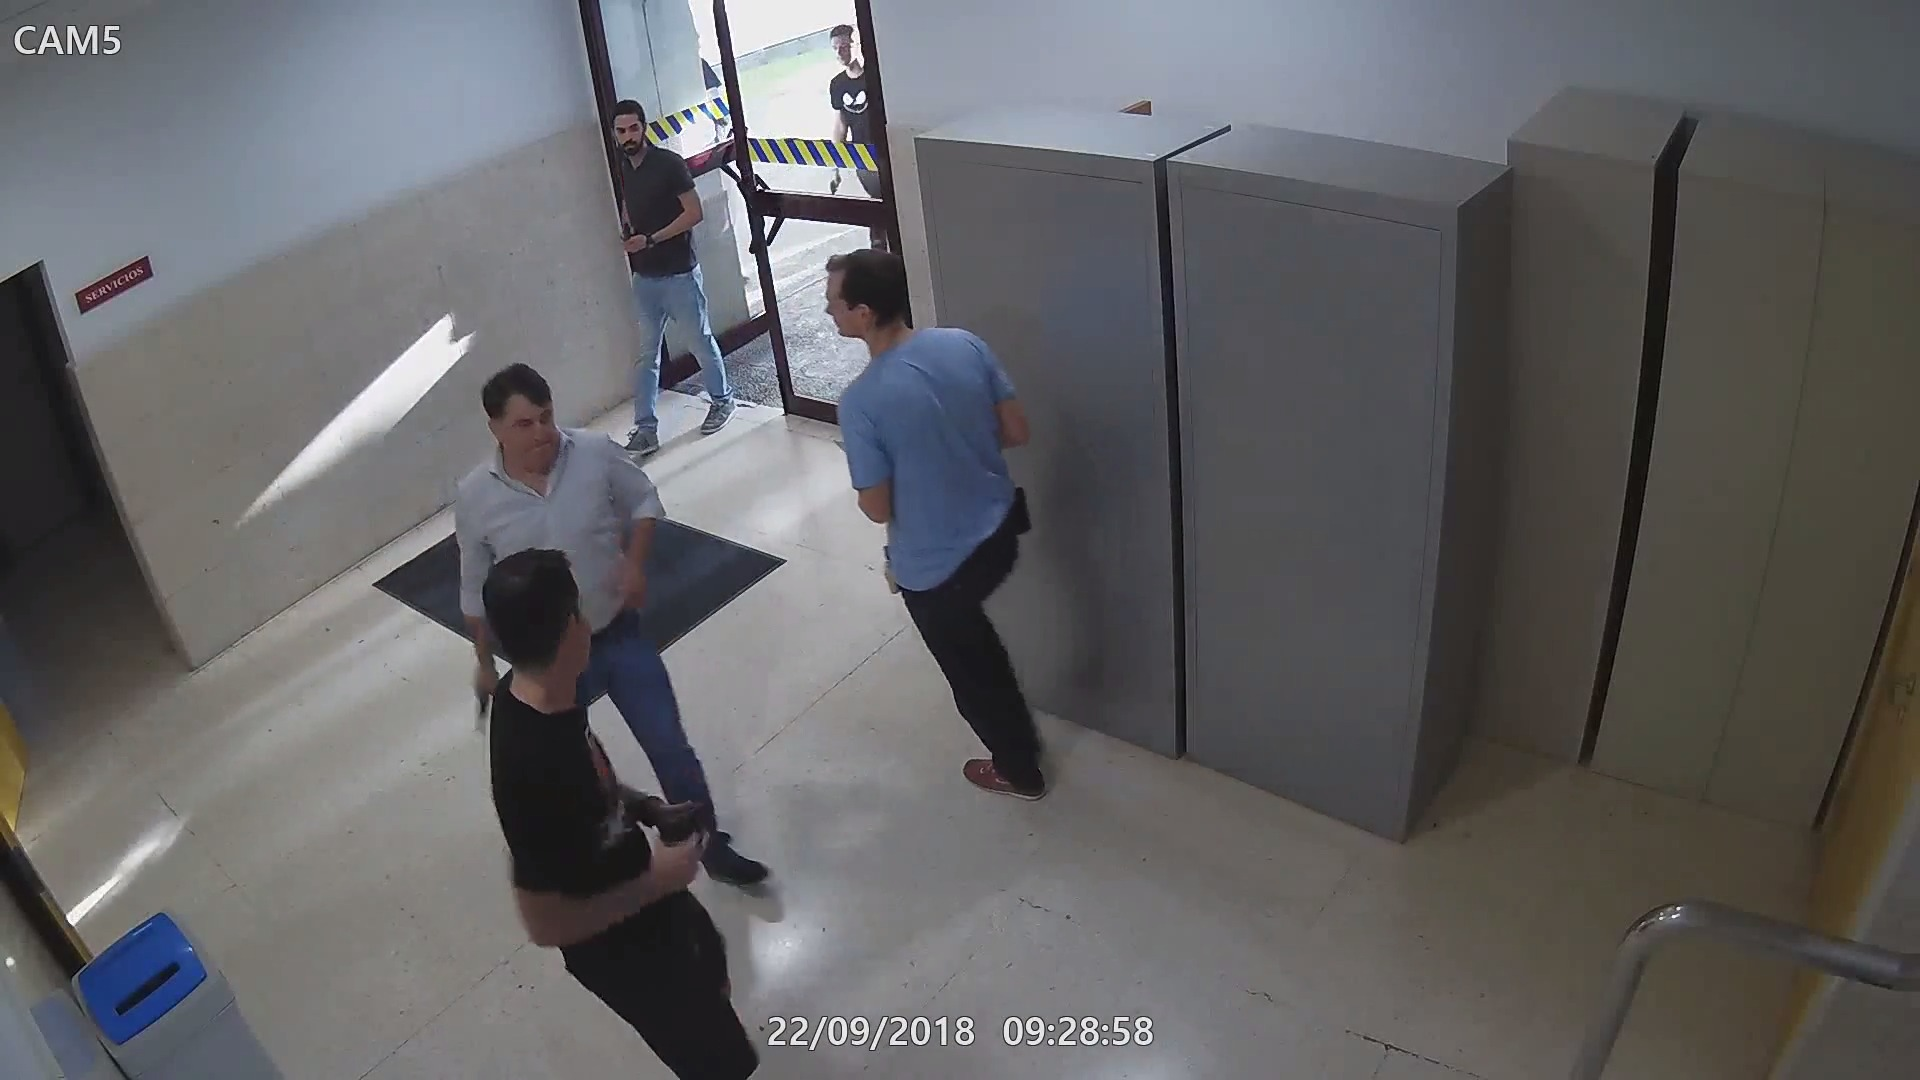Handgun: (647, 796, 711, 901), (468, 651, 502, 742), (618, 219, 644, 256), (825, 171, 841, 193)
